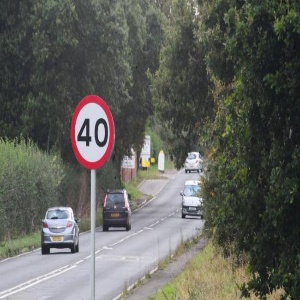40 speed: (70, 94, 114, 170)
